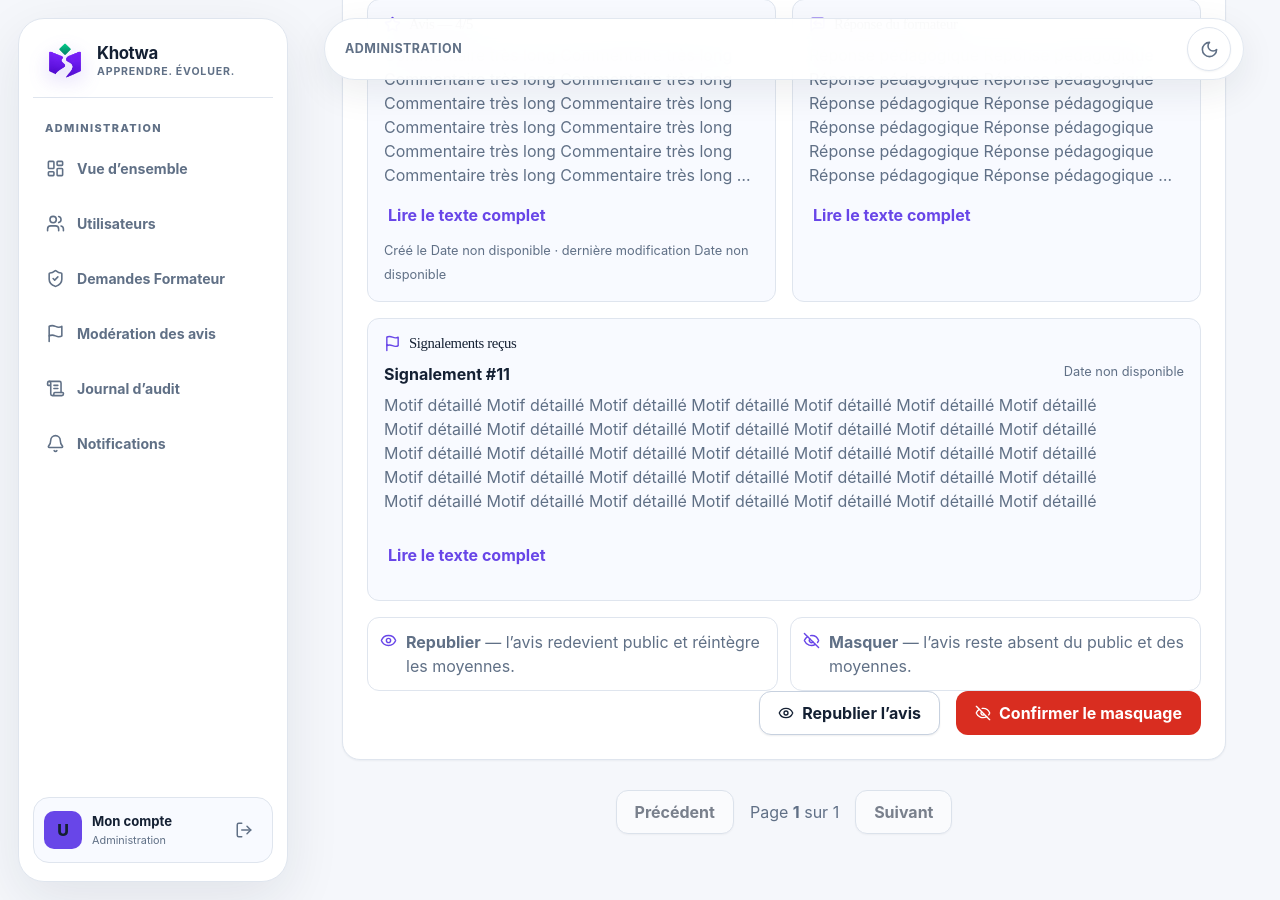
workflow de modération Admin › confirme la republication, bloque le double clic et recharge avant d’annoncer le succès
(page scrolled)
What coordinates should you click on to do the following:
click the button "Republier l’avis"
I would click on:
 (850, 714)
Its box is [759,692,940,736].
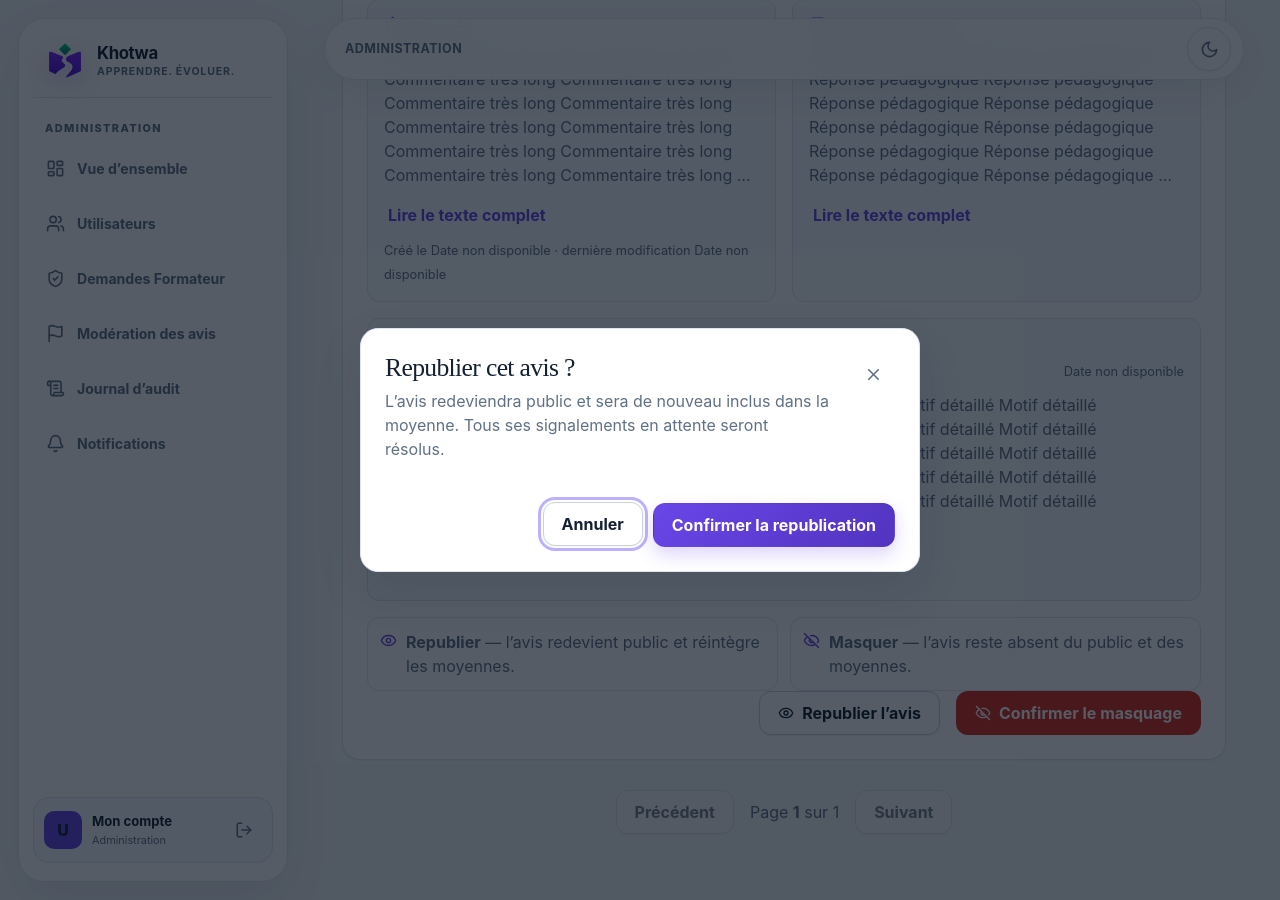
What coordinates should you click on to do the following:
click the button "Confirmer la republication"
I would click on:
 (774, 525)
Its box is [653,503,895,547].
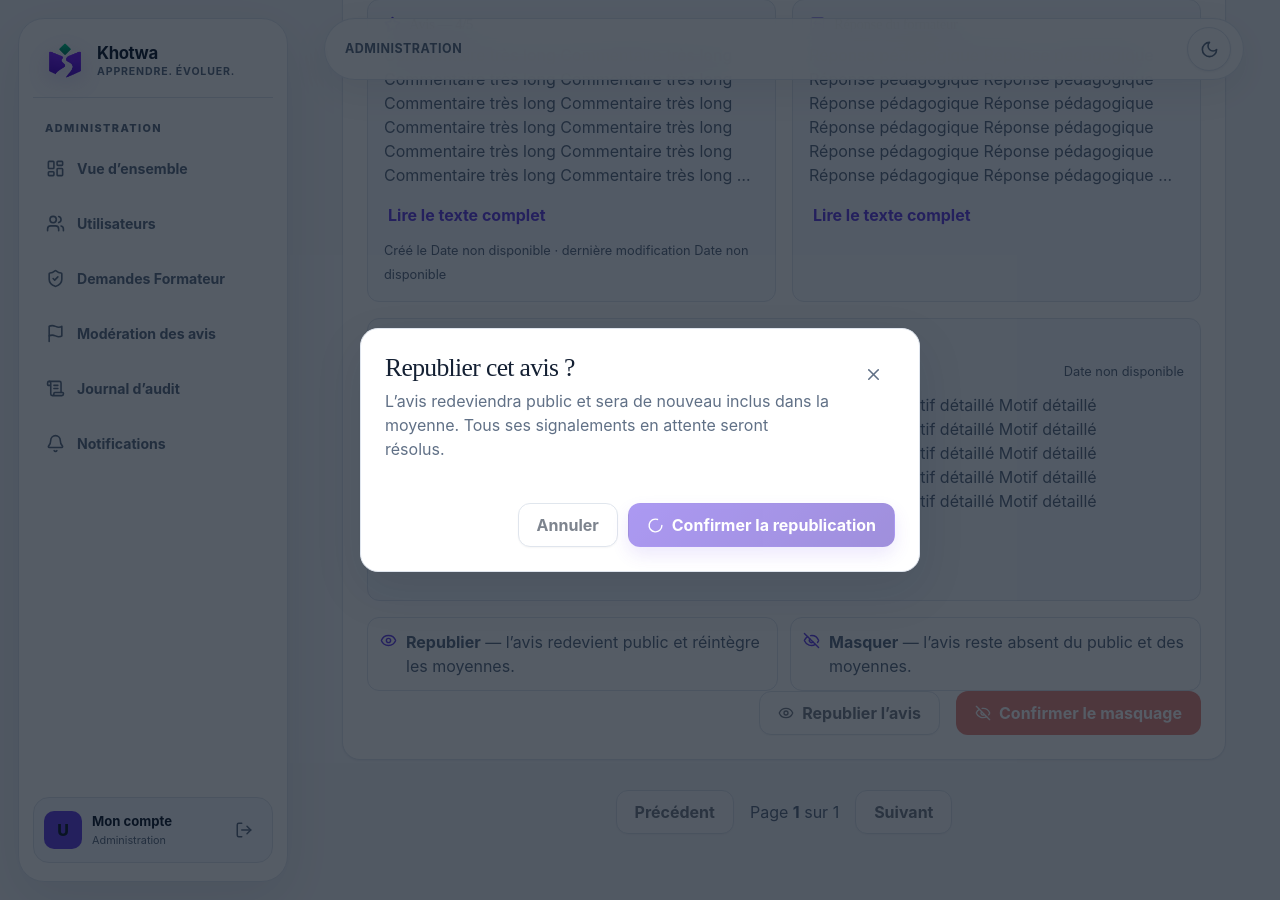
What coordinates should you click on to do the following:
click the button "Confirmer la republication"
I would click on:
 (761, 525)
Its box is [628,503,895,547].
(page scrolled)
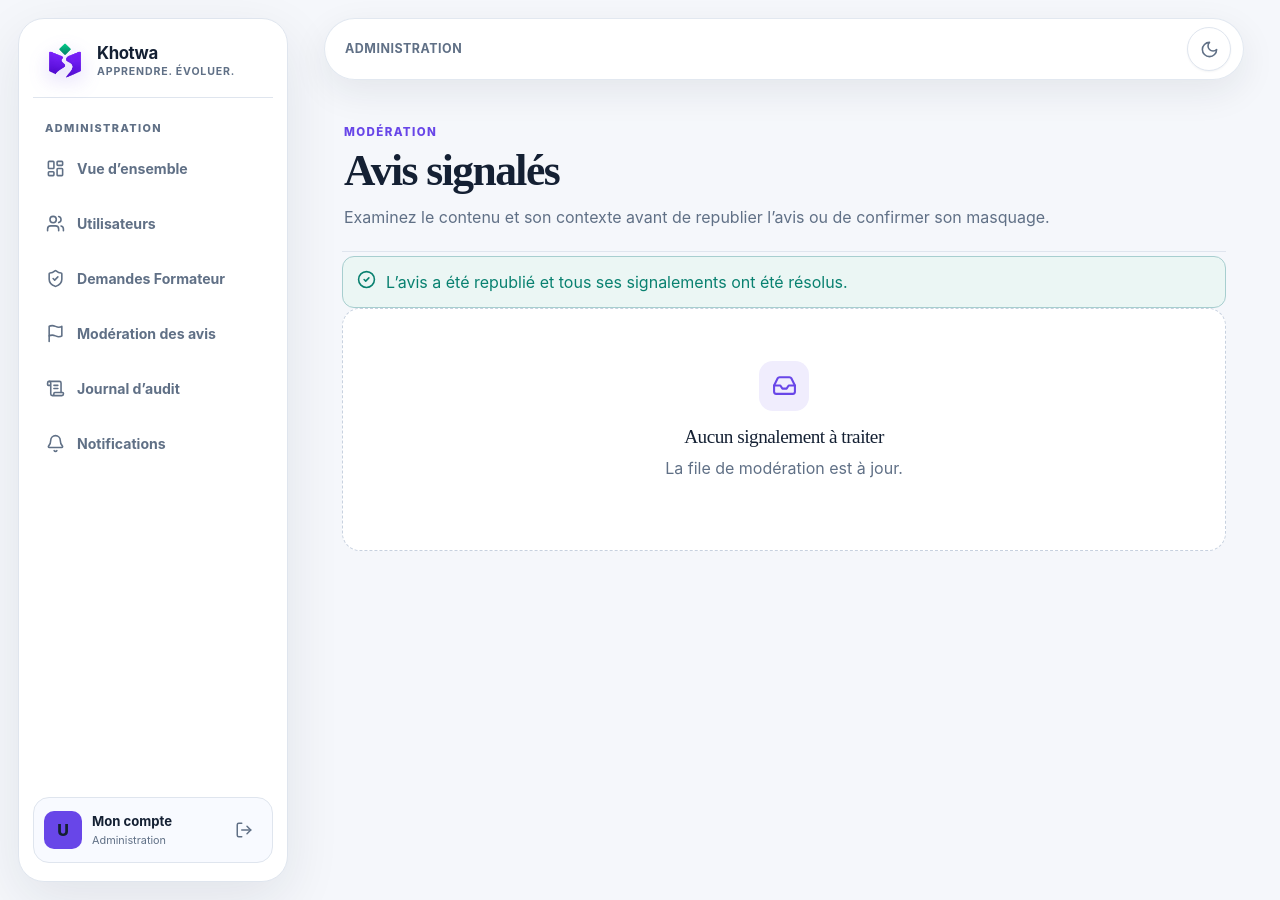
Now the text "avis a été republié" is shown, box [386,272,848,292]
Now the heading "Aucun signalement à traiter" is shown, box [684,426,884,448]
